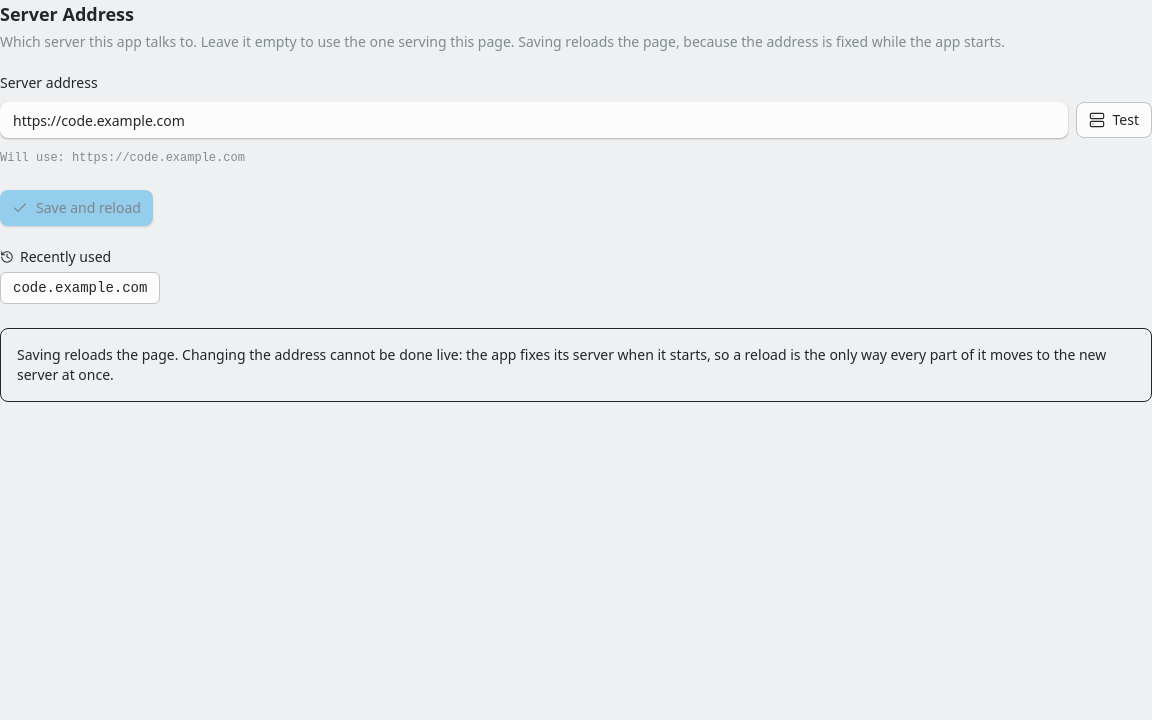
Test case: ServerSettings › says so plainly when the choice means this very page
Clear the field labelled "Server address" at (534, 120), box 0,102 -> 1068,138
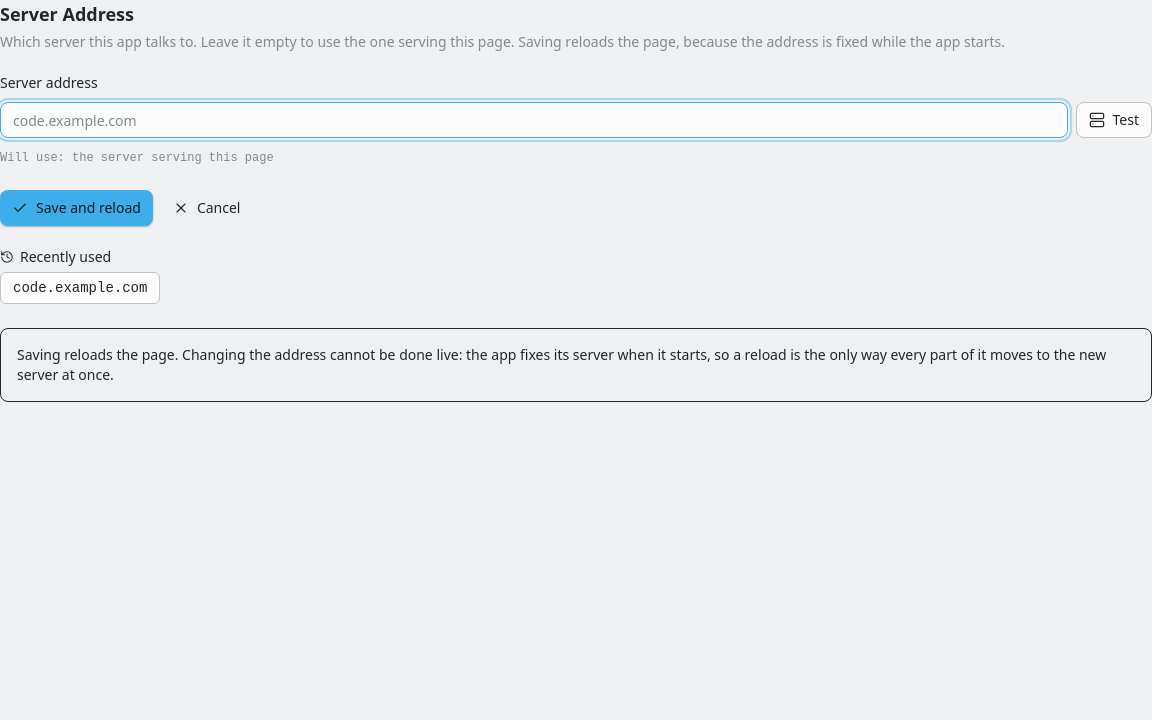
Now the text "Will use: the server serving this page" is shown, box 0,151 -> 274,165
